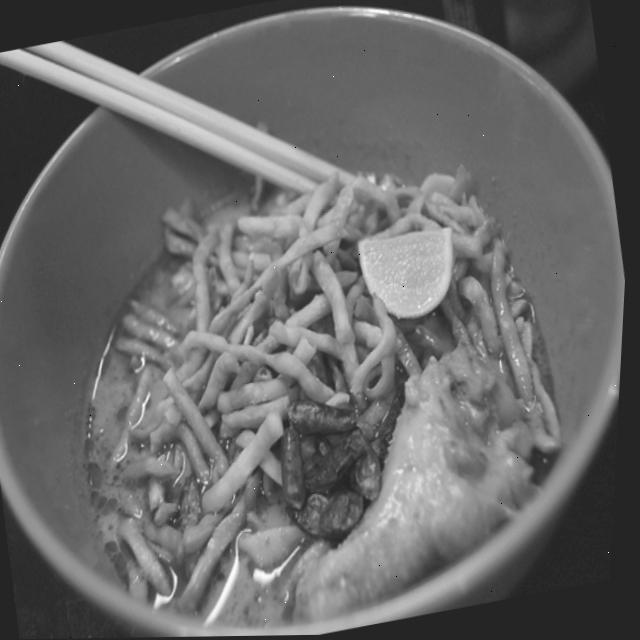面条主食: (29, 114, 600, 639)
